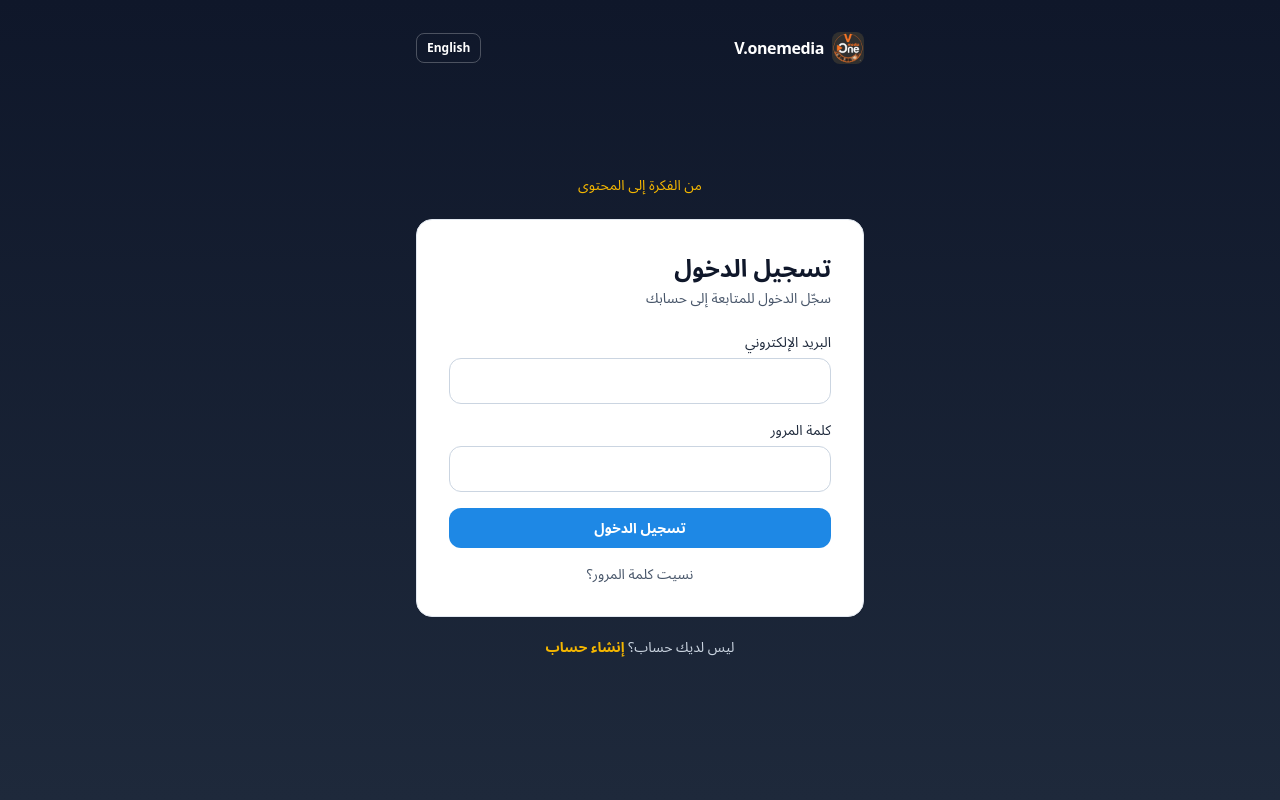
Test: login page › shows the backend's own message when credentials are rejected
The width and height of the screenshot is (1280, 800).
Type "  adel@example.com  " into the field labelled "البريد الإلكتروني" at point(640, 381), box [449,358,831,404]
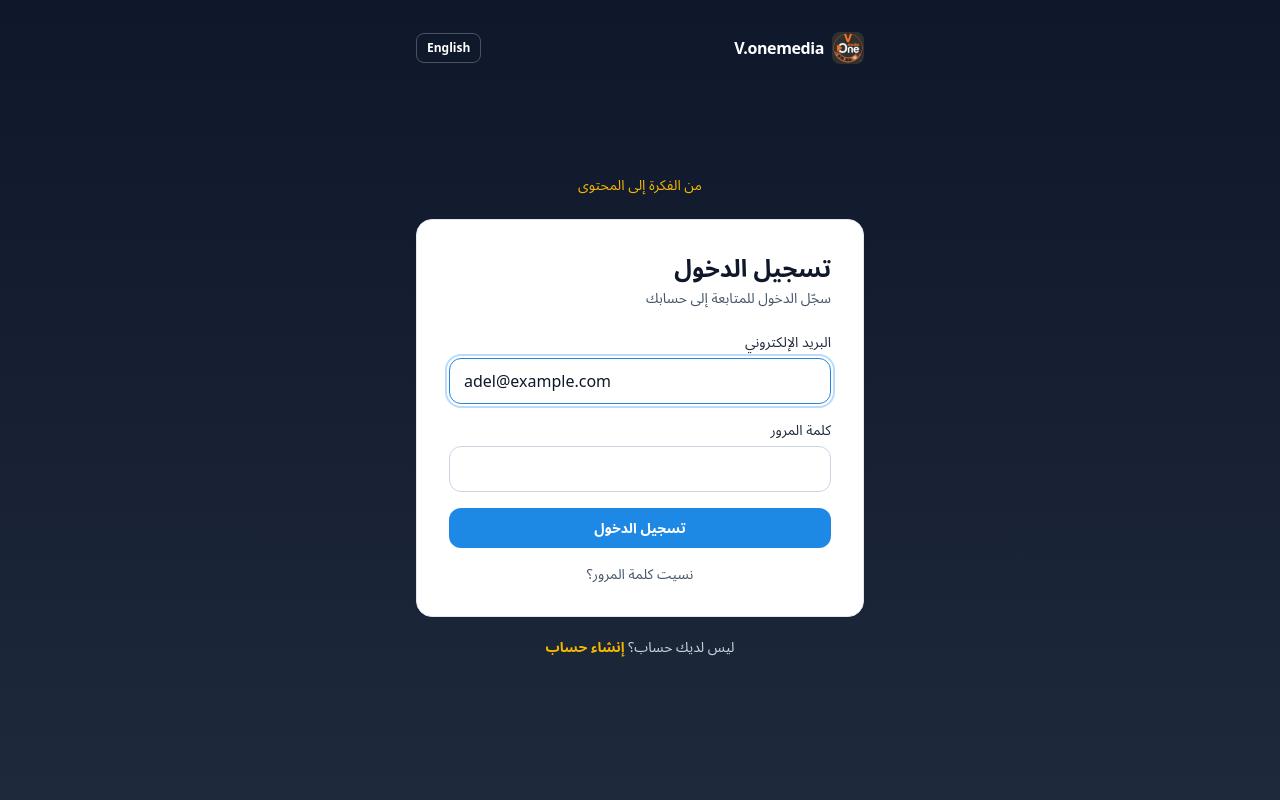
Type "SuperSecret123" into the password field labelled "كلمة المرور" at point(640, 469), box [449,446,831,492]
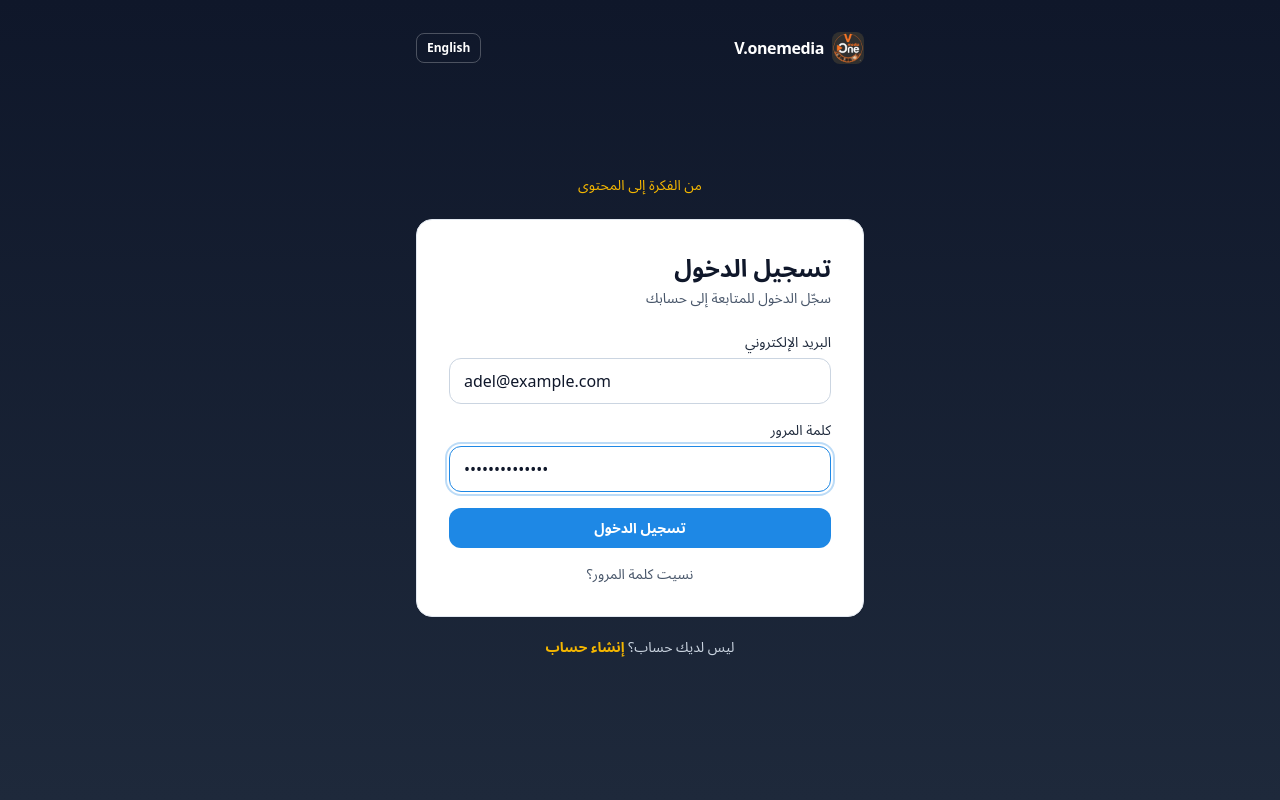
Click the button "تسجيل الدخول" at point(640, 528), box [449,508,831,548]
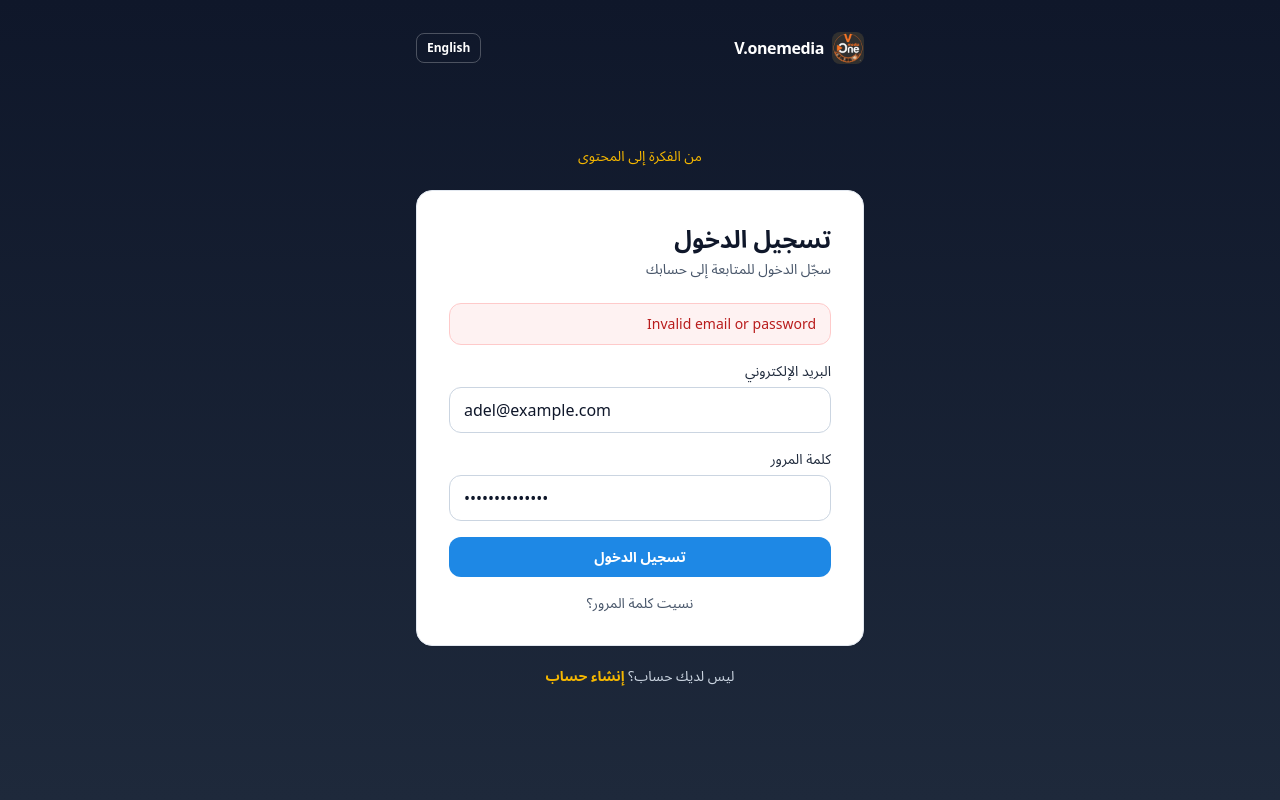
Result: the message reads "Invalid email or password" at [647,314,816,333]
